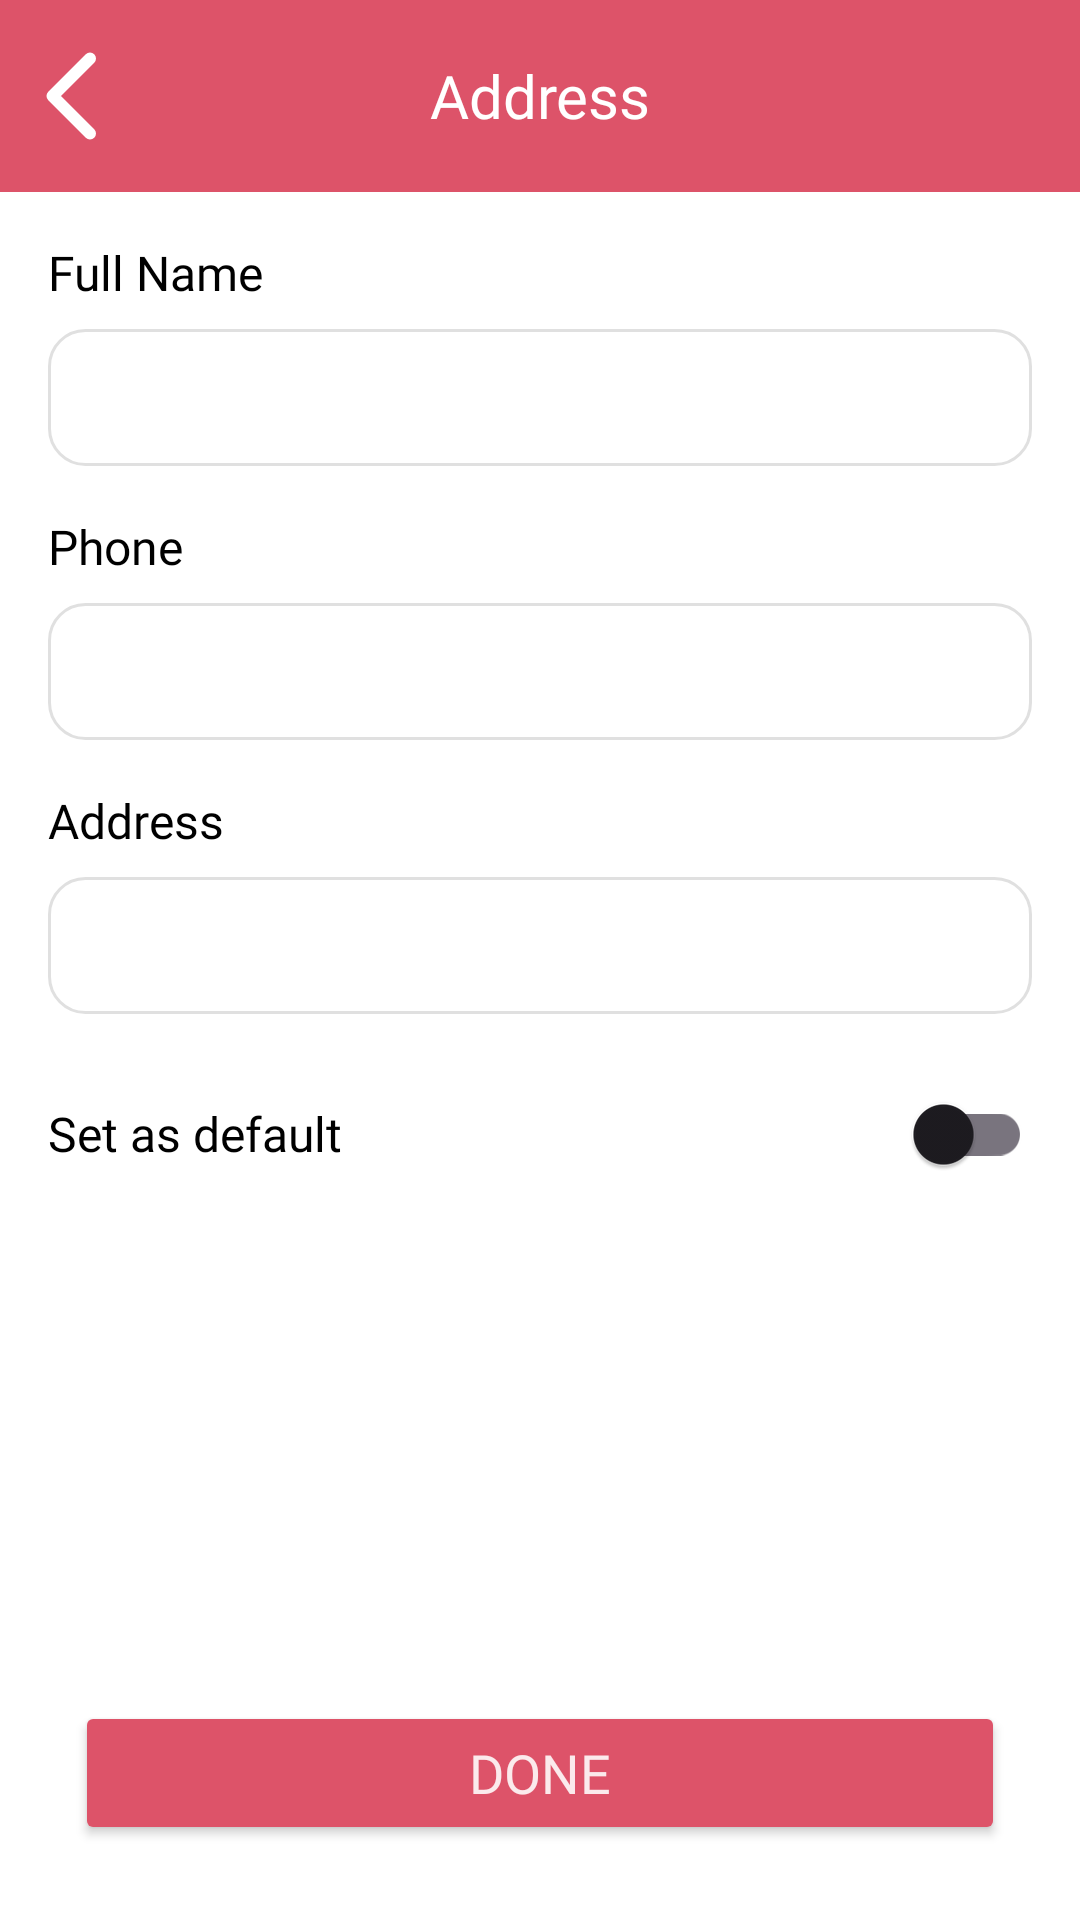

Where to tap for icons on this 1080px×1920px app screen, as (x=x, y=y):
Back: (x=71, y=96)
